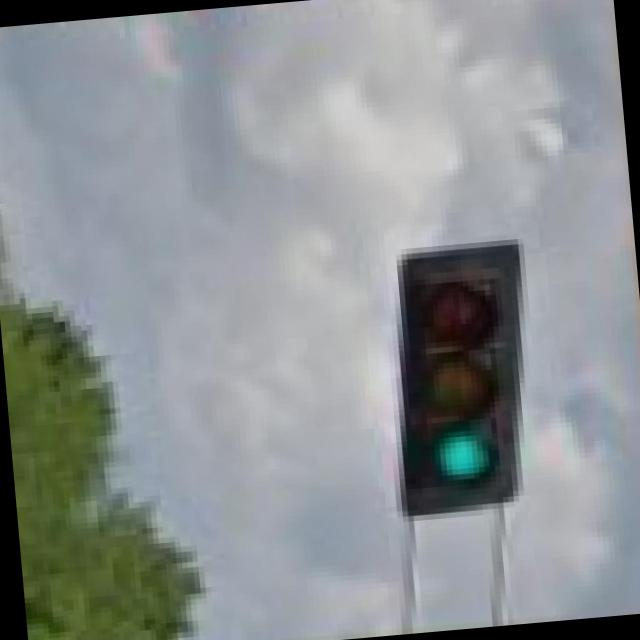green-lights: (419, 418, 504, 496)
